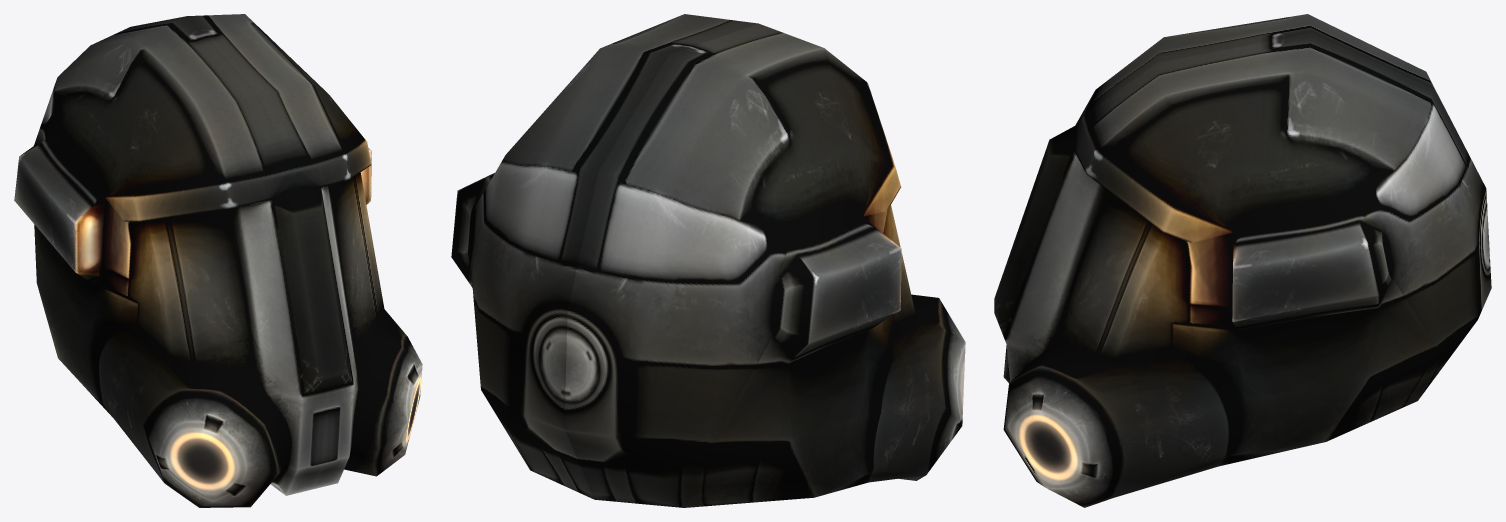
Rendered from Enemy_Soldier_Helmet_2.fbx.
3 renders of one model, left to right at view 1: azimuth 30°, elevation 25°; view 2: azimuth 150°, elevation 25°; view 3: azimuth 270°, elevation 25°, orthographic. The views are drawn at different scales.
Parts seen in each view (by area): view 1: Enemy_Soldier_Helmet_2; view 2: Enemy_Soldier_Helmet_2; view 3: Enemy_Soldier_Helmet_2.
Part boxes in pixels (box(x1,y1,x2,y2)): Enemy_Soldier_Helmet_2: box(14, 14, 422, 507); Enemy_Soldier_Helmet_2: box(451, 14, 965, 507); Enemy_Soldier_Helmet_2: box(994, 14, 1491, 507).
Bounding box in the file's own units: 0.31 × 0.3914 × 0.4136.
